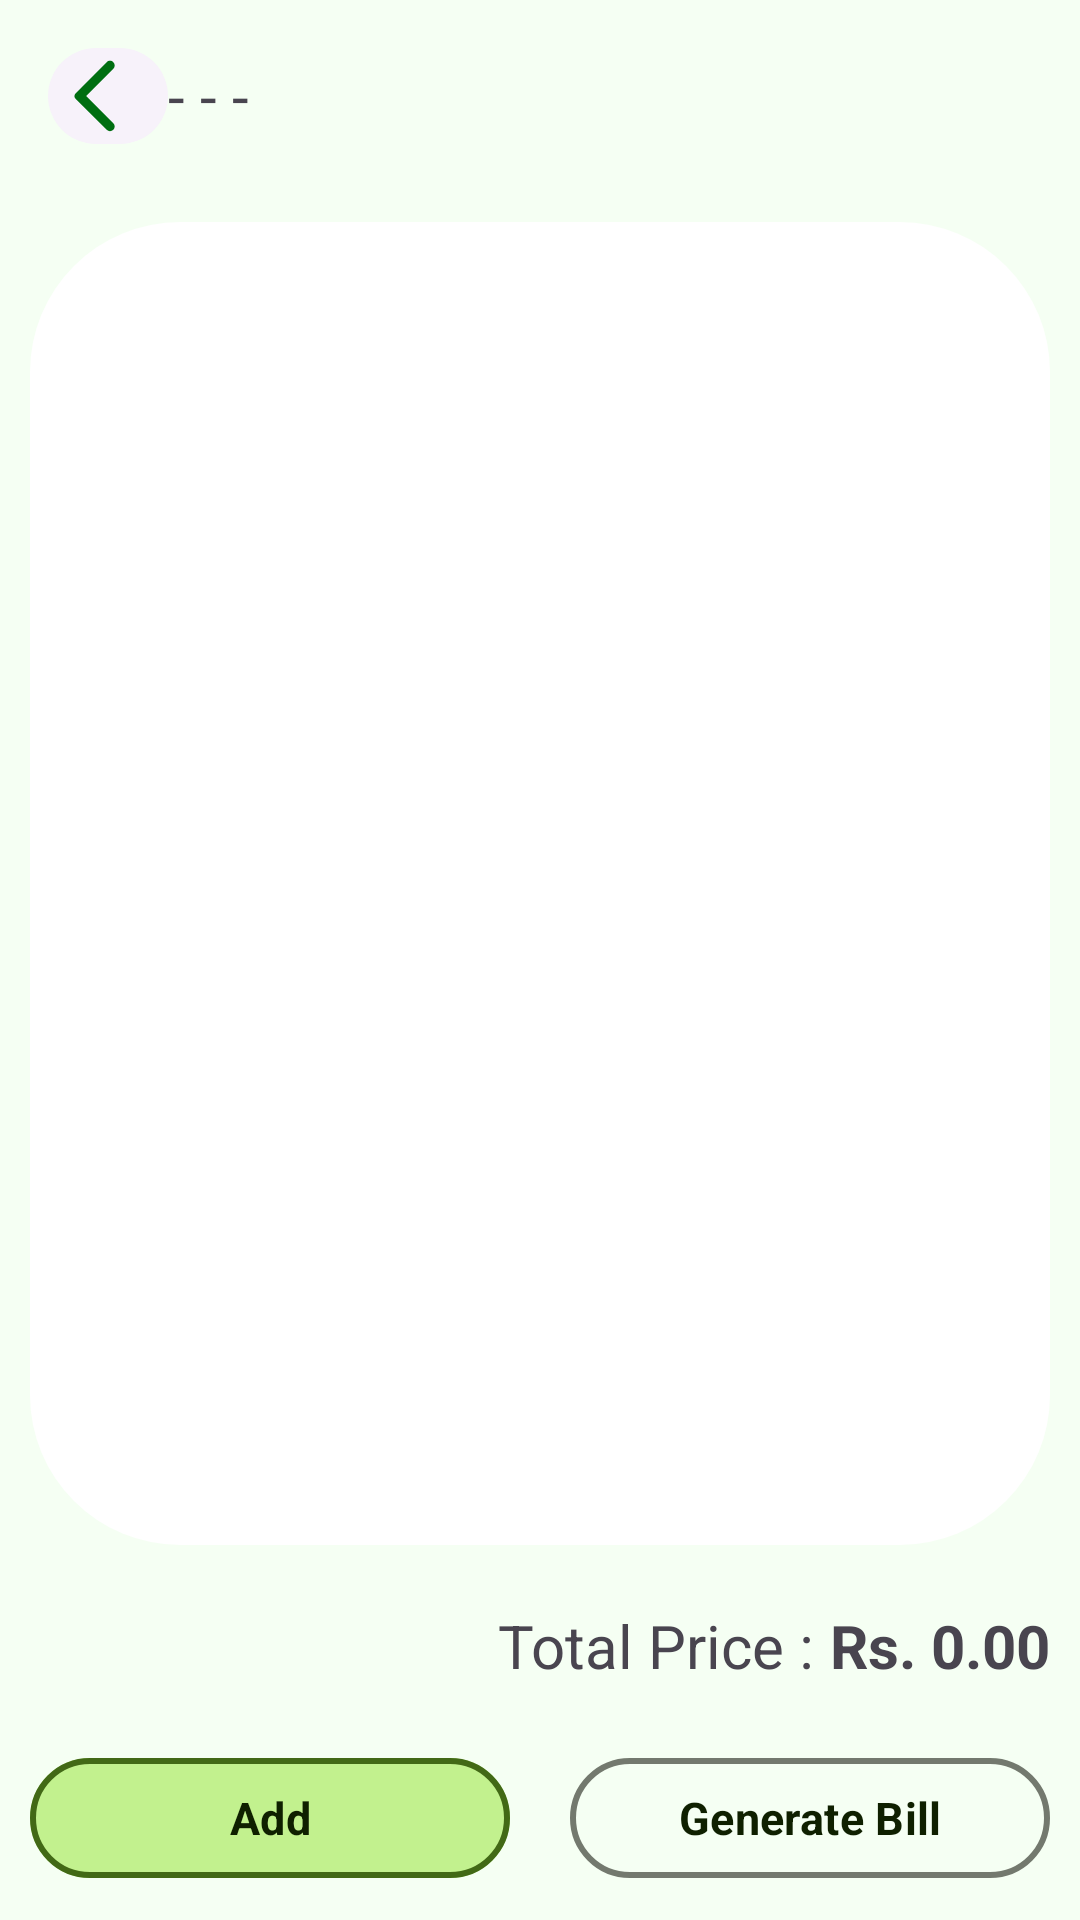

Icon bounding boxes for this 1080w x 1920h phone screenshot, format (x1,y1,x2,y2):
back: (48,48,168,144)
